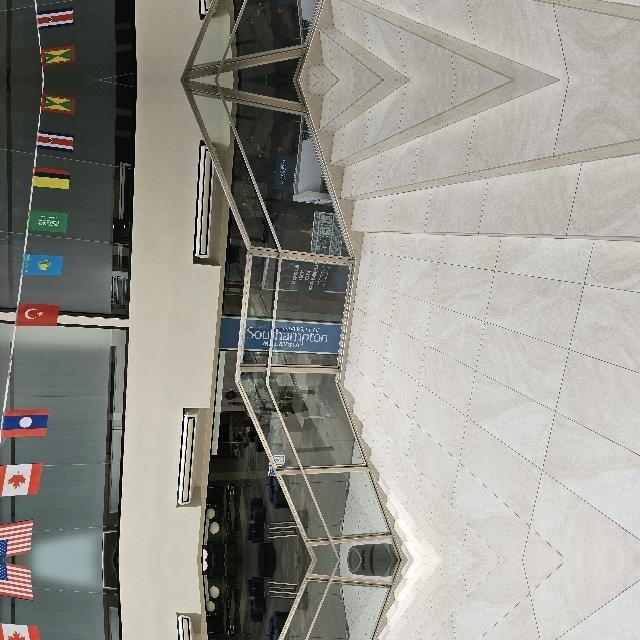stair: (299, 371, 477, 640), (299, 409, 477, 640), (0, 416, 184, 590), (0, 530, 183, 640)
